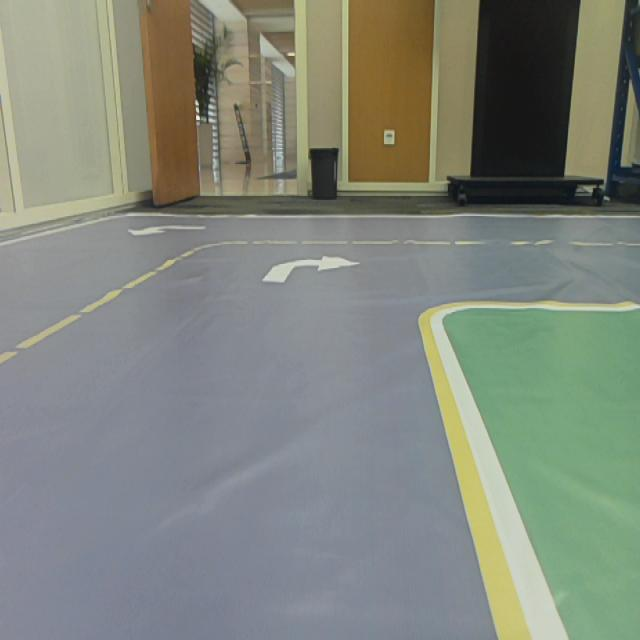left_lane: (0, 245, 201, 365)
right_lane: (417, 323, 532, 639)
